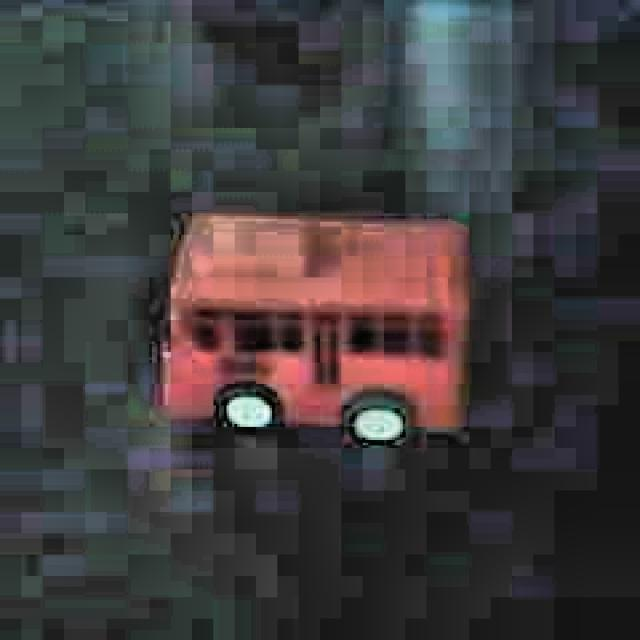bus: (150, 203, 473, 449)
